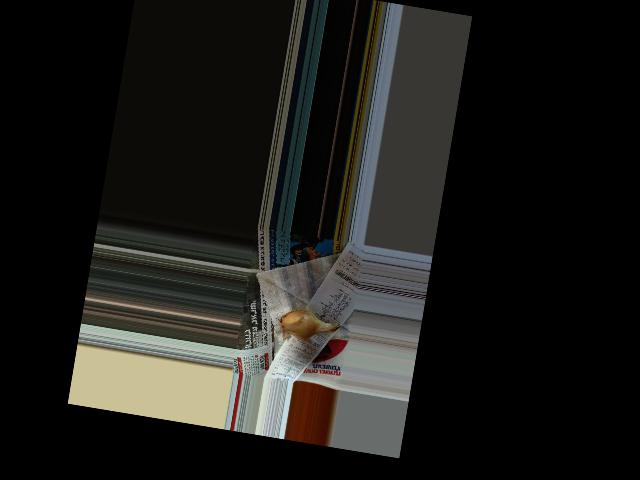onion: (277, 303, 325, 340)
